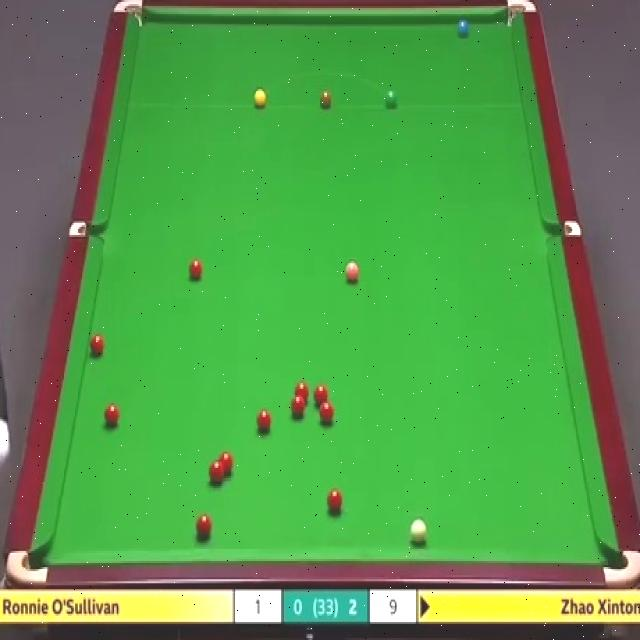blue-ball: (457, 20, 470, 36)
brown-ball: (319, 89, 332, 108)
green-ball: (384, 90, 396, 108)
pink-ball: (345, 263, 360, 285)
red-ball: (101, 401, 119, 427), (209, 459, 225, 484), (218, 451, 234, 475), (196, 514, 212, 538), (256, 407, 271, 432), (320, 398, 334, 424), (329, 490, 343, 516), (90, 333, 104, 357), (292, 397, 307, 418), (294, 381, 309, 402), (314, 384, 328, 406), (188, 261, 203, 279)
white-ball: (410, 517, 427, 547)
yellow-ball: (253, 89, 267, 108)
